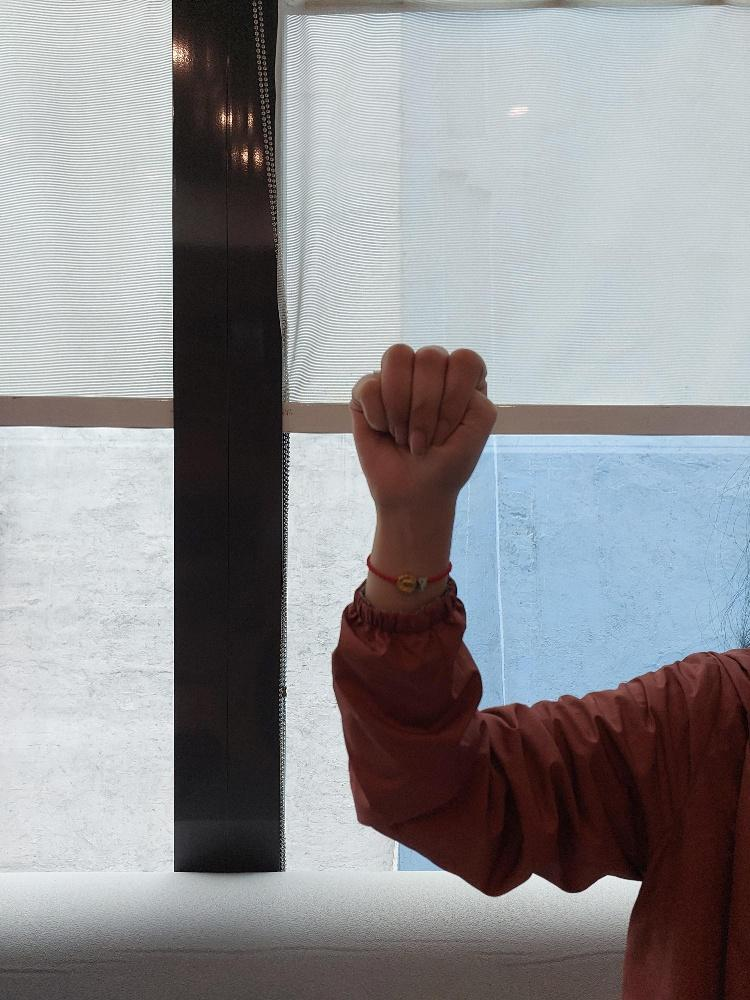m: (349, 336, 504, 504)
